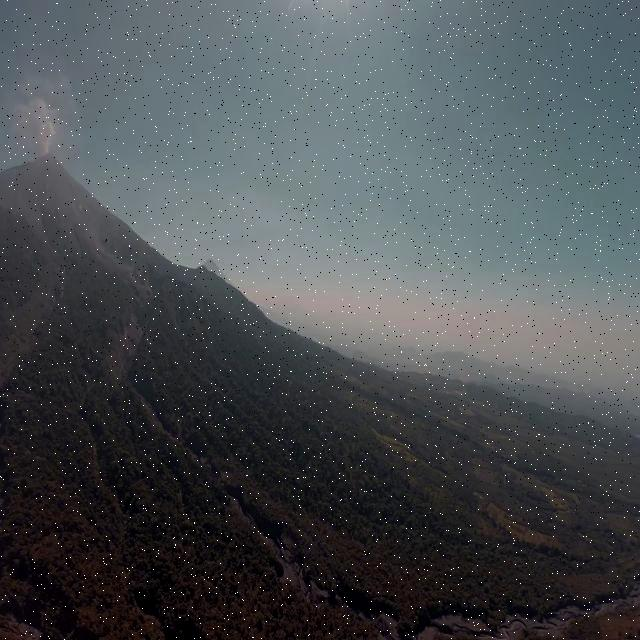Plume: (15, 98, 60, 152), (38, 120, 56, 151)
Summit: (36, 149, 64, 172)
